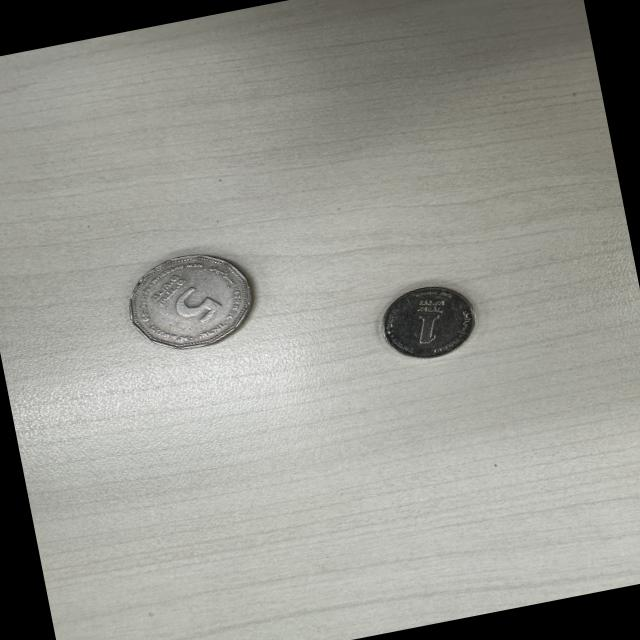1-shekel: (361, 270, 490, 370)
5-shekel: (98, 228, 262, 364)
